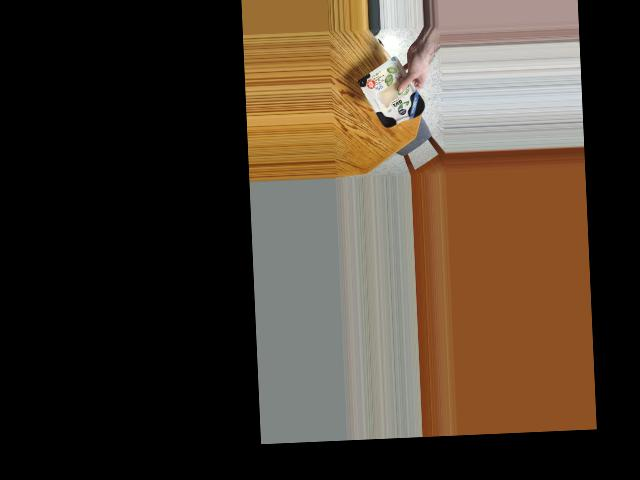cheese: (361, 63, 424, 127)
